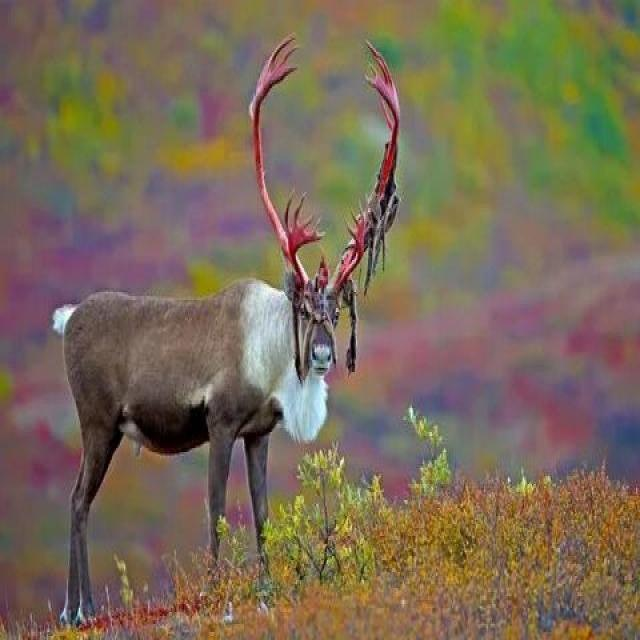deer: (155, 178, 403, 482)
